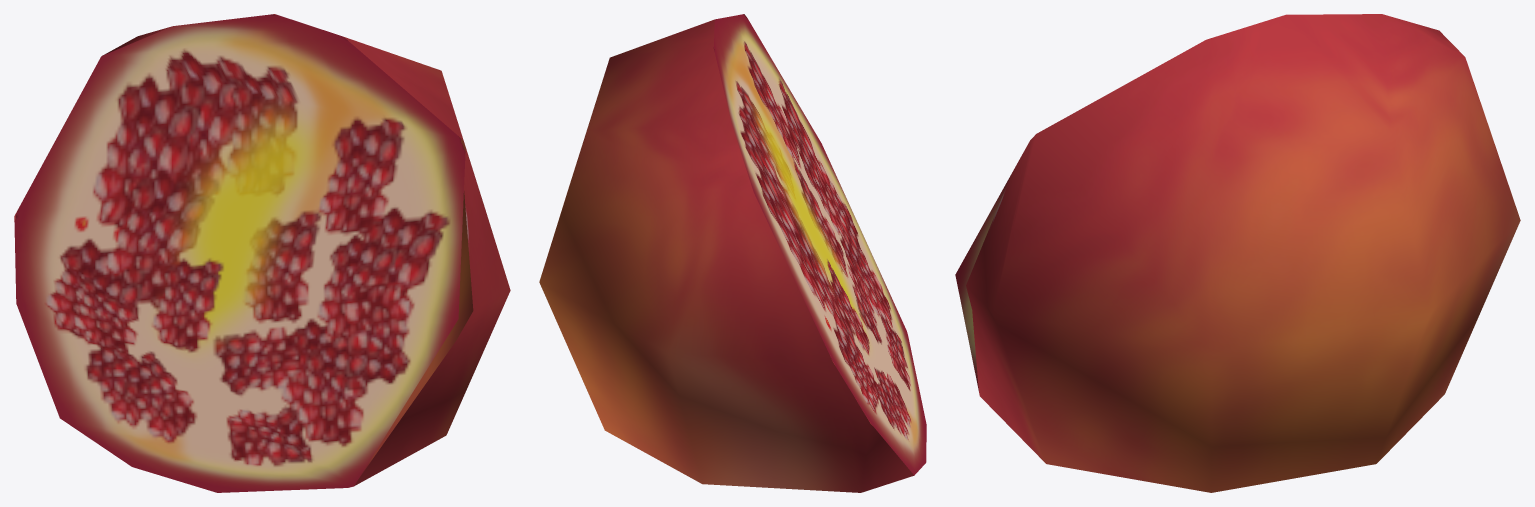
File: pomegranateS2.FBX
3 views of the same model, side by side, from view 1: azimuth 30°, elevation 25°; view 2: azimuth 150°, elevation 25°; view 3: azimuth 270°, elevation 25° (orthographic). The views are drawn at different scales.
Visible parts, largest first — view 1: Pomegranate Slice 2; view 2: Pomegranate Slice 2; view 3: Pomegranate Slice 2.
Part boxes in pixels (x1,y1,x2,y2): Pomegranate Slice 2: [14, 14, 510, 492]; Pomegranate Slice 2: [539, 14, 926, 492]; Pomegranate Slice 2: [955, 14, 1520, 492].
Bounding box in the file's own units: 7.01 × 7.64 × 7.87.
